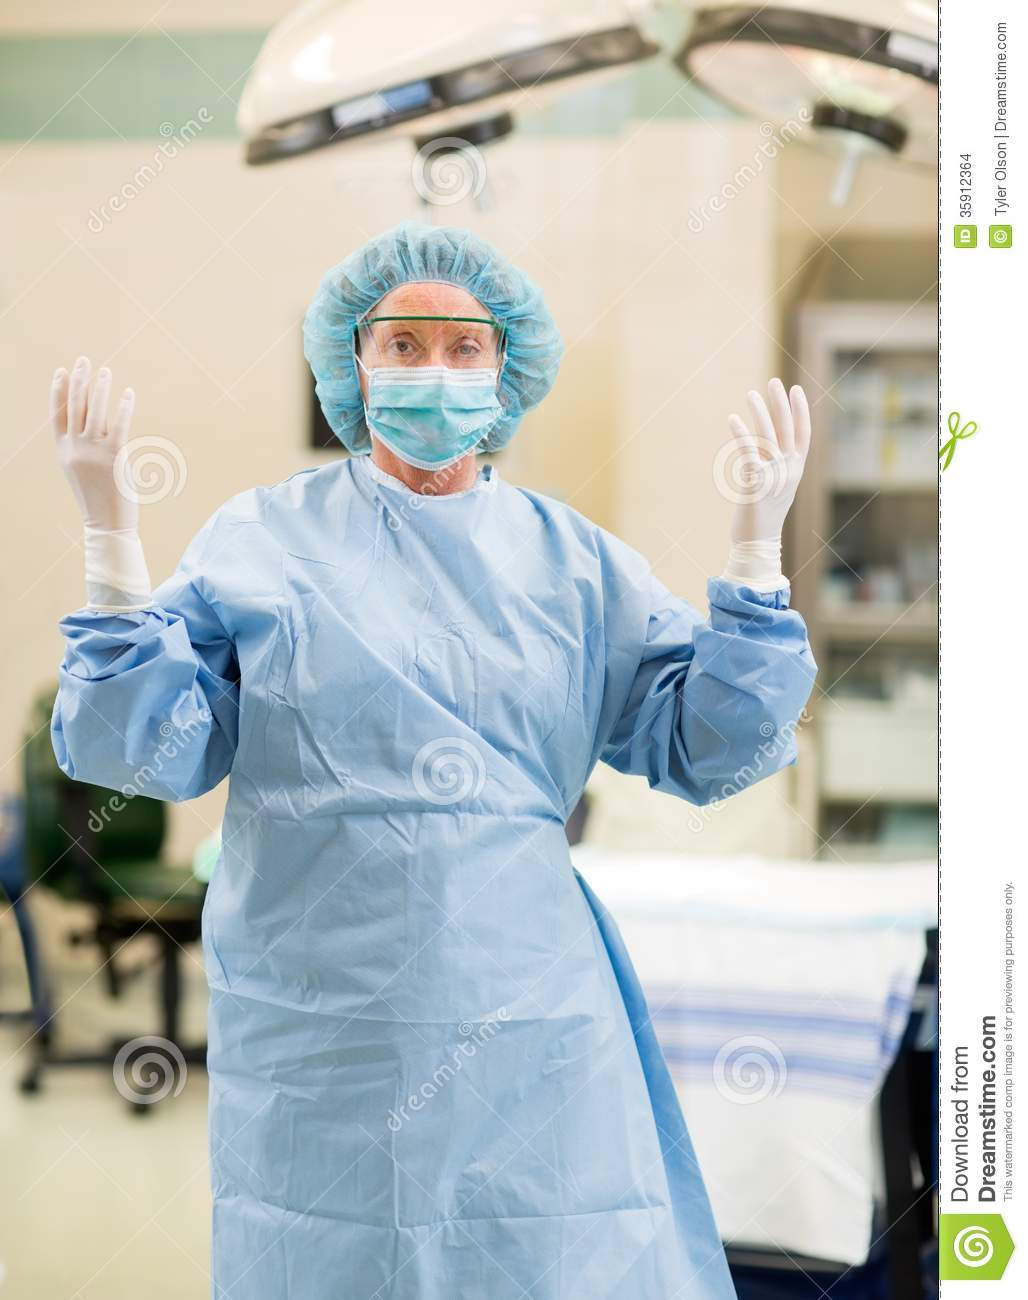mask: (353, 371, 510, 473)
